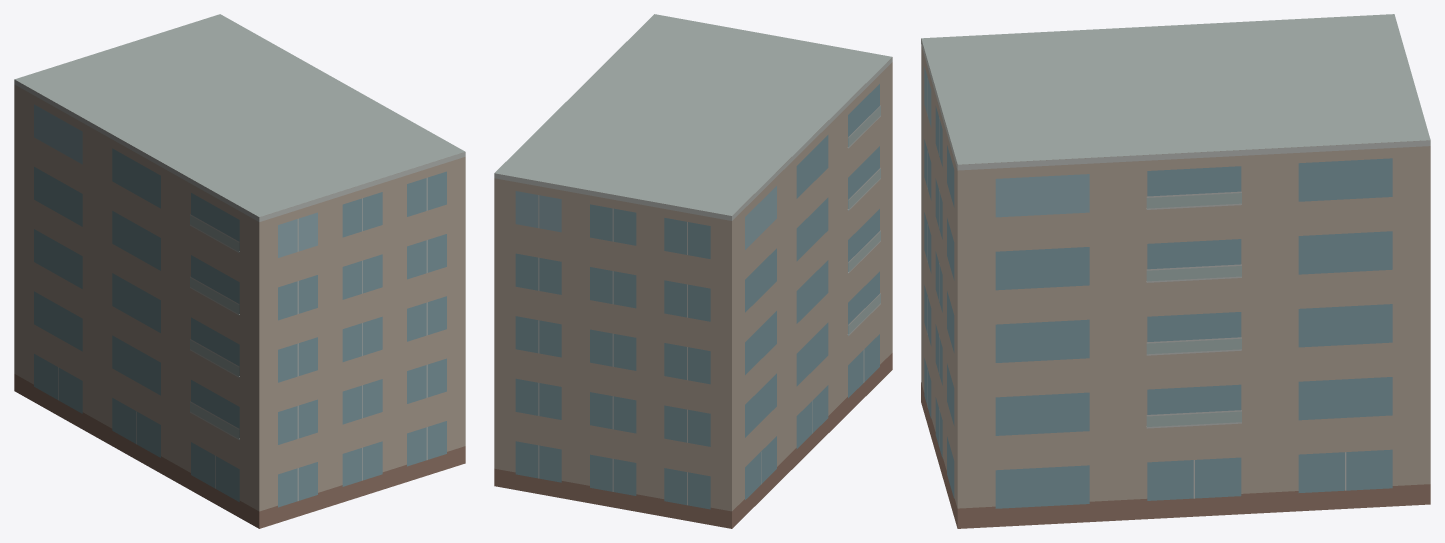
The model's file is survey-upis-32641203.glb.
3 renders of one model, left to right at view 1: azimuth 30°, elevation 25°; view 2: azimuth 150°, elevation 25°; view 3: azimuth 270°, elevation 25°, orthographic. The views are drawn at different scales.
Visible parts, largest first — view 1: survey-upis-32641203.tmp; view 2: survey-upis-32641203.tmp; view 3: survey-upis-32641203.tmp.
Part boxes in pixels (left/top/right/bottom): survey-upis-32641203.tmp: left=14, top=14, right=465, bottom=528; survey-upis-32641203.tmp: left=494, top=14, right=892, bottom=528; survey-upis-32641203.tmp: left=921, top=14, right=1430, bottom=528.
Bounding box in the file's own units: 13.54 × 15.25 × 19.34.
